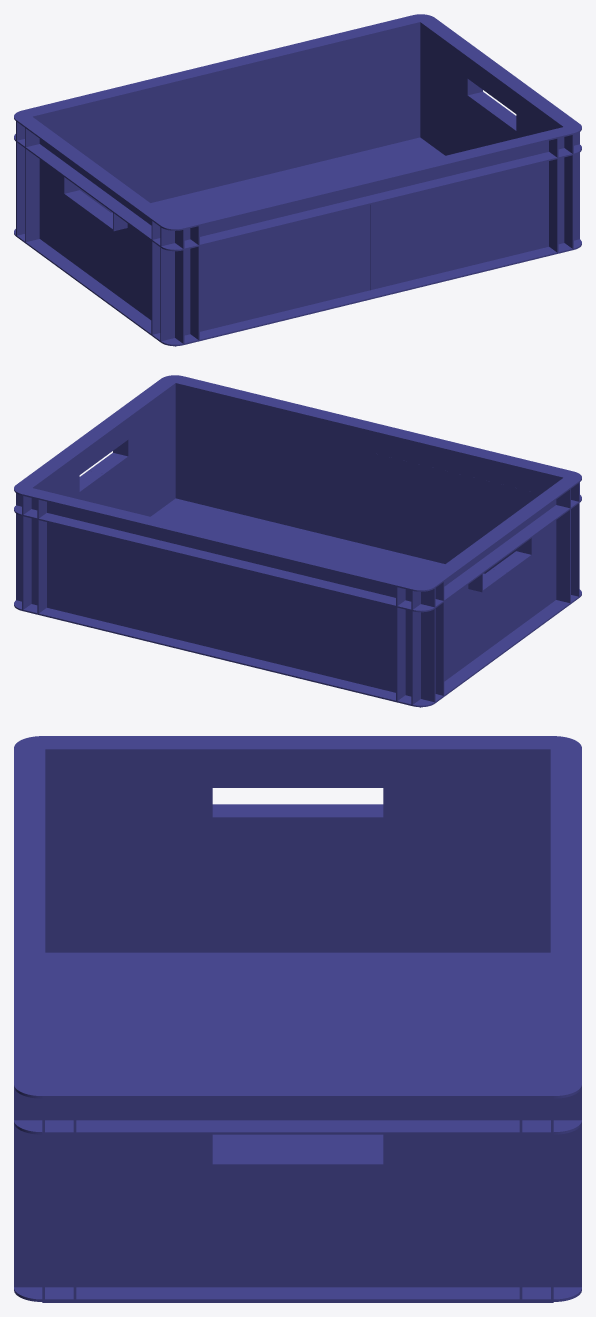
File: eurocontainer_400.dae
3 renders of one model, top to bottom at view 1: azimuth 30°, elevation 25°; view 2: azimuth 150°, elevation 25°; view 3: azimuth 270°, elevation 25°, orthographic. The views are drawn at different scales.
Parts seen in each view (by area): view 1: eurocontainer_400mm; view 2: eurocontainer_400mm; view 3: eurocontainer_400mm.
Part boxes in pixels (<box>): eurocontainer_400mm: <box>14,14,581,346</box>; eurocontainer_400mm: <box>14,375,581,707</box>; eurocontainer_400mm: <box>14,736,581,1302</box>.
Bounding box in the file's own units: 0.6 × 0.4 × 0.17.
